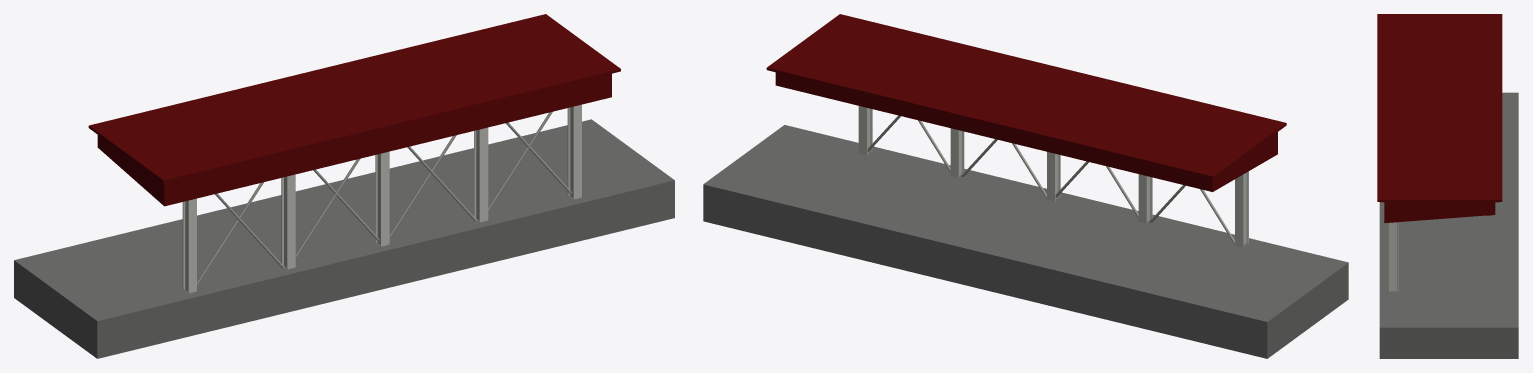
The model's file is Waiting_Train_Station.gltf.
3 renders of one model, left to right at view 1: azimuth 30°, elevation 25°; view 2: azimuth 150°, elevation 25°; view 3: azimuth 270°, elevation 25°, orthographic. The views are drawn at different scales.
Visible parts, largest first — view 1: cube (×7); view 2: cube (×7); view 3: cube (×3).
Part boxes in pixels (bbox=[...]): cube (×7): bbox=[14, 14, 674, 358]; cube (×7): bbox=[703, 14, 1348, 358]; cube (×3): bbox=[1377, 14, 1518, 358].
Size of the model in its own units: 1.5 by 0.4062 by 0.3813.
Materials: 4 (4 with a texture image).
